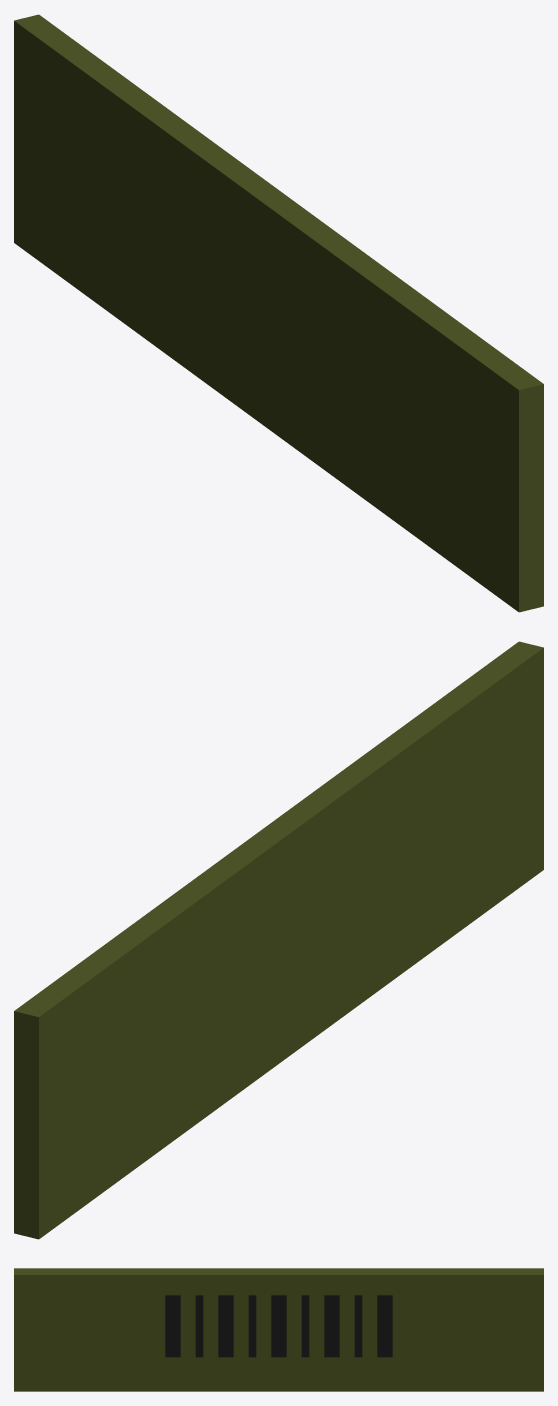
The model's file is utility_4x4_face.glb.
3 views of the same model, one above another, from view 1: azimuth 30°, elevation 25°; view 2: azimuth 150°, elevation 25°; view 3: azimuth 270°, elevation 25° (orthographic). The views are drawn at different scales.
Parts seen in each view (by area): view 1: body:compound; view 2: body:compound; view 3: body:compound.
Boxes of the visible parts, x1=… form: body:compound: x1=14, y1=14, x2=543, y2=612; body:compound: x1=14, y1=641, x2=543, y2=1239; body:compound: x1=14, y1=1268, x2=543, y2=1391.
Bounding box in the file's own units: 0.0625 × 0.5312 × 2.19.
